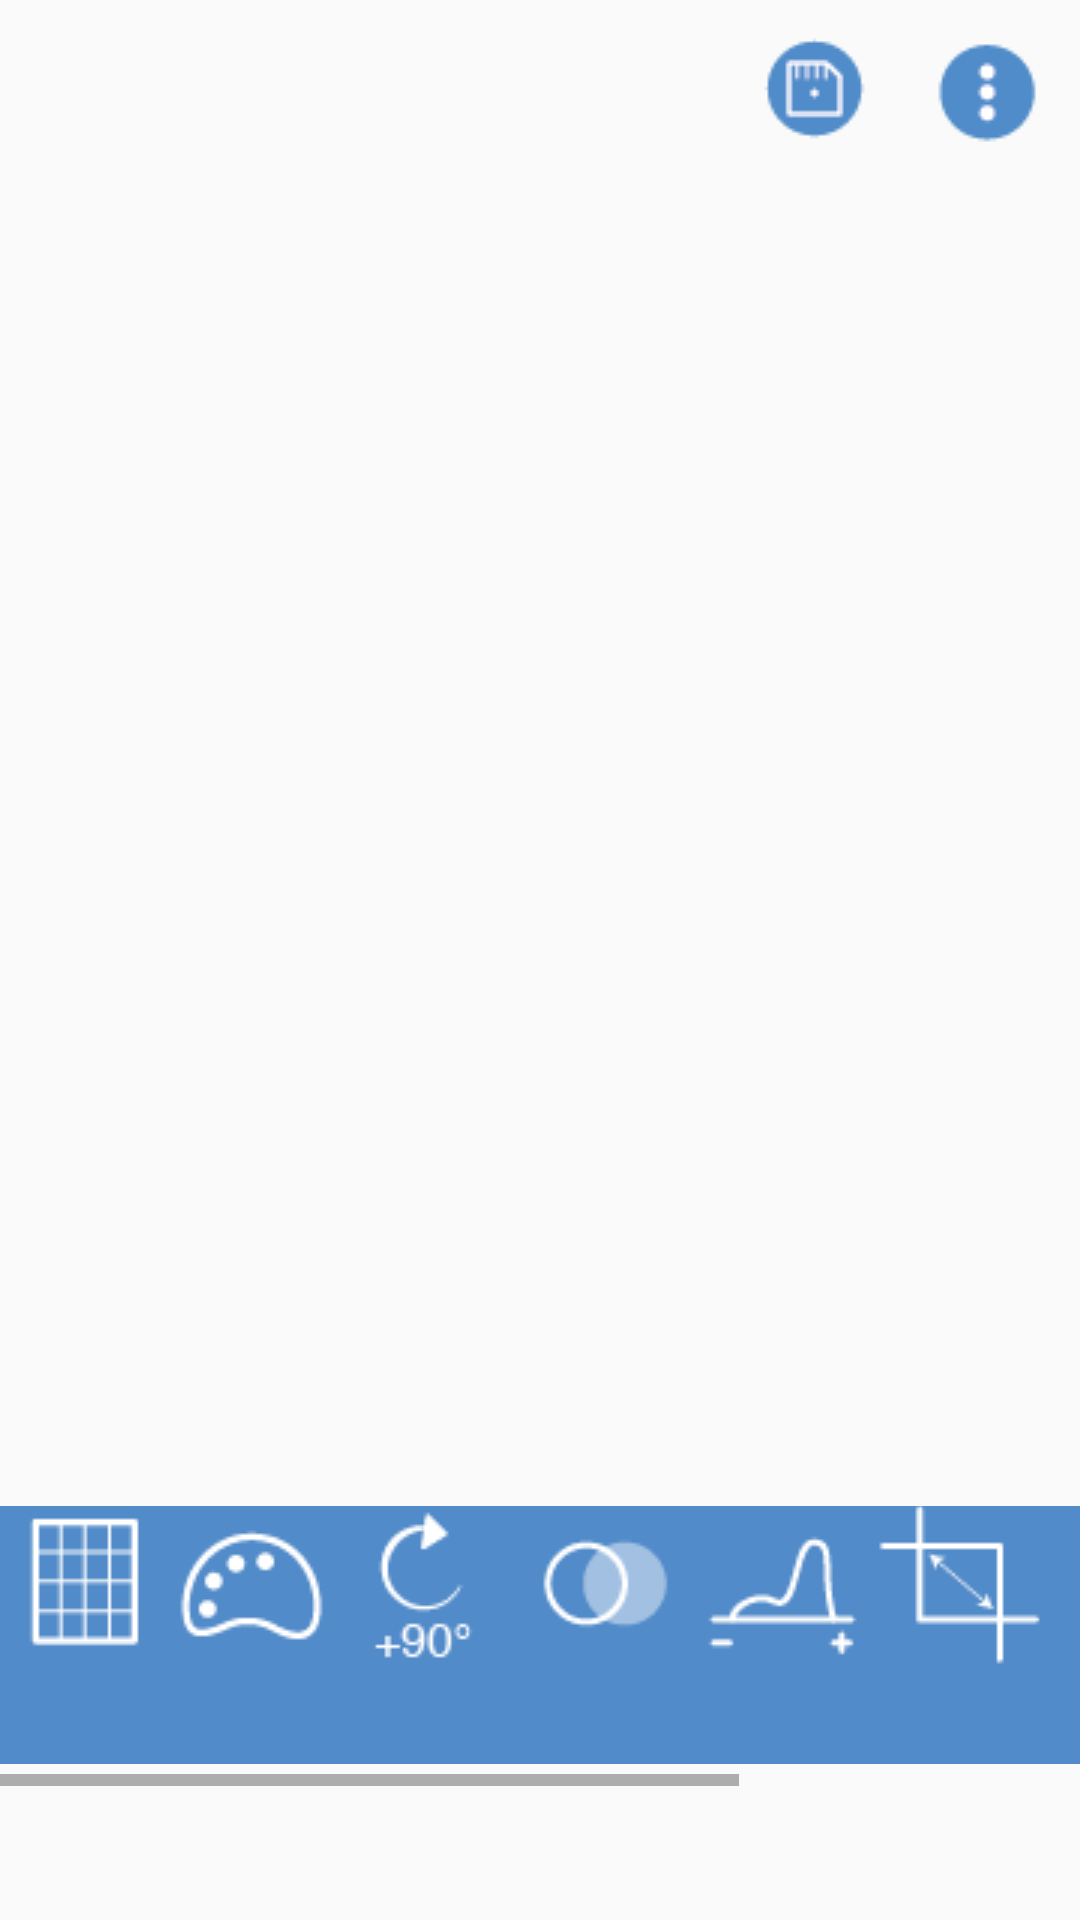

Named icons in this screenshot (1080 × 1920) and their centers, (x,y):
ajuster: (782,1596)
couleur: (251,1585)
enregister: (814,88)
filtres: (605,1583)
plus: (987,93)
rogner: (959,1579)
rotation: (423,1585)
